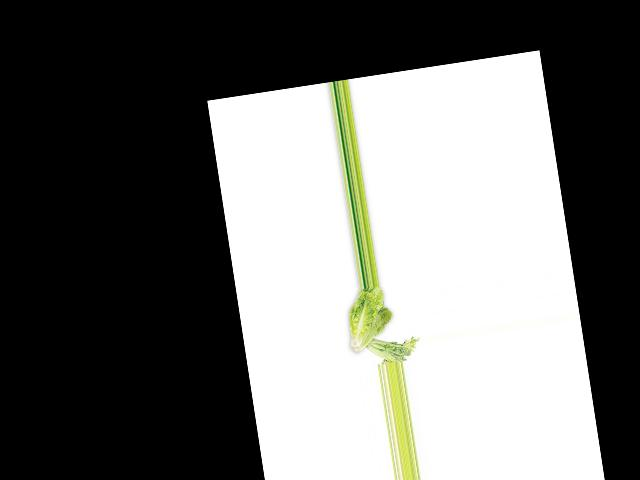lettuce: (344, 283, 402, 356)
